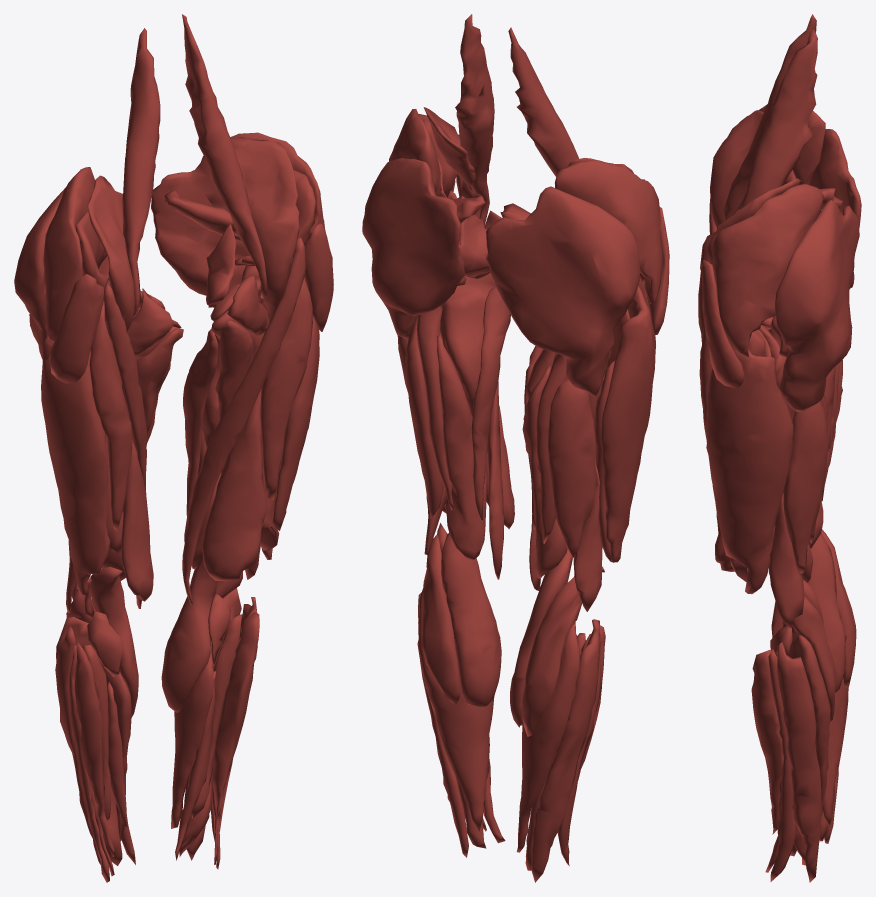
The model's file is vhf_lower_limb_adult_female.muscular.LOD4.glb.
3 views of the same model, side by side, from view 1: azimuth 30°, elevation 25°; view 2: azimuth 150°, elevation 25°; view 3: azimuth 270°, elevation 25° (orthographic).
Visible parts, largest first — view 1: VHF_LOWER_LIMB.ADULT.FEMALE.MUSCULAR.VASTUS_LATERALIS.R, VHF_LOWER_LIMB.ADULT.FEMALE.MUSCULAR.GASTROCNEMIUS_MEDIAL_HE (×2), VHF_LOWER_LIMB.ADULT.FEMALE.MUSCULAR.VASTUS_MEDIALIS.L, VHF_LOWER_LIMB.ADULT.FEMALE.MUSCULAR.SARTORIUS.L, VHF_LOWER_LIMB.ADULT.FEMALE.MUSCULAR.ILIACUS.L, VHF_LOWER_LIMB.ADULT.FEMALE.MUSCULAR.PSOAS_MAJOR.L, VHF_LOWER_LIMB.ADULT.FEMALE.MUSCULAR.PSOAS_MAJOR.R, VHF_LOWER_LIMB.ADULT.FEMALE.MUSCULAR.GLUTEUS_MAXIMUS.L, VHF_LOWER_LIMB.ADULT.FEMALE.MUSCULAR.RECTUS_FEMORIS.L, VHF_LOWER_LIMB.ADULT.FEMALE.MUSCULAR.GLUTEUS_MEDIUS.R, VHF_LOWER_LIMB.ADULT.FEMALE.MUSCULAR.RECTUS_FEMORIS.R, VHF_LOWER_LIMB.ADULT.FEMALE.MUSCULAR.TIBIALIS_ANTERIOR.L (+32 smaller); view 2: VHF_LOWER_LIMB.ADULT.FEMALE.MUSCULAR.GLUTEUS_MAXIMUS.R, VHF_LOWER_LIMB.ADULT.FEMALE.MUSCULAR.GLUTEUS_MAXIMUS.L, VHF_LOWER_LIMB.ADULT.FEMALE.MUSCULAR.BICEPS_FEMORIS_LONG_HEA (×2), VHF_LOWER_LIMB.ADULT.FEMALE.MUSCULAR.GASTROCNEMIUS_MEDIAL_HE (×2), VHF_LOWER_LIMB.ADULT.FEMALE.MUSCULAR.VASTUS_LATERALIS.R, VHF_LOWER_LIMB.ADULT.FEMALE.MUSCULAR.GASTROCNEMIUS_LATERAL_H (×2), VHF_LOWER_LIMB.ADULT.FEMALE.MUSCULAR.FIBULARIS_PERONEUS_LONG (×2), VHF_LOWER_LIMB.ADULT.FEMALE.MUSCULAR.GLUTEUS_MEDIUS.R, VHF_LOWER_LIMB.ADULT.FEMALE.MUSCULAR.SEMIMEMBRANOSUS.L, VHF_LOWER_LIMB.ADULT.FEMALE.MUSCULAR.SOLEUS.L, VHF_LOWER_LIMB.ADULT.FEMALE.MUSCULAR.SOLEUS.R, VHF_LOWER_LIMB.ADULT.FEMALE.MUSCULAR.PSOAS_MAJOR.L (+17 smaller); view 3: VHF_LOWER_LIMB.ADULT.FEMALE.MUSCULAR.VASTUS_LATERALIS.L, VHF_LOWER_LIMB.ADULT.FEMALE.MUSCULAR.GLUTEUS_MAXIMUS.L, VHF_LOWER_LIMB.ADULT.FEMALE.MUSCULAR.GLUTEUS_MEDIUS.L, VHF_LOWER_LIMB.ADULT.FEMALE.MUSCULAR.FIBULARIS_PERONEUS_LONG, VHF_LOWER_LIMB.ADULT.FEMALE.MUSCULAR.PSOAS_MAJOR.L, VHF_LOWER_LIMB.ADULT.FEMALE.MUSCULAR.BICEPS_FEMORIS_LONG_HEA, VHF_LOWER_LIMB.ADULT.FEMALE.MUSCULAR.GASTROCNEMIUS_LATERAL_H (×2), VHF_LOWER_LIMB.ADULT.FEMALE.MUSCULAR.GASTROCNEMIUS_MEDIAL_HE (×2), VHF_LOWER_LIMB.ADULT.FEMALE.MUSCULAR.TIBIALIS_ANTERIOR.L, VHF_LOWER_LIMB.ADULT.FEMALE.MUSCULAR.BICEPS_FEMORIS_SHORT_HE, VHF_LOWER_LIMB.ADULT.FEMALE.MUSCULAR.ILIACUS.R, VHF_LOWER_LIMB.ADULT.FEMALE.MUSCULAR.TENSOR_FASCIAE_LATAE.L (+13 smaller).
Boxes of the visible parts, x1,y1,x2,y2 form: VHF_LOWER_LIMB.ADULT.FEMALE.MUSCULAR.VASTUS_LATERALIS.R: [41, 338, 110, 595]; VHF_LOWER_LIMB.ADULT.FEMALE.MUSCULAR.GASTROCNEMIUS_MEDIAL_HE (×2): [89, 558, 217, 717]; VHF_LOWER_LIMB.ADULT.FEMALE.MUSCULAR.VASTUS_MEDIALIS.L: [202, 388, 266, 581]; VHF_LOWER_LIMB.ADULT.FEMALE.MUSCULAR.SARTORIUS.L: [182, 237, 305, 605]; VHF_LOWER_LIMB.ADULT.FEMALE.MUSCULAR.ILIACUS.L: [231, 137, 299, 324]; VHF_LOWER_LIMB.ADULT.FEMALE.MUSCULAR.PSOAS_MAJOR.L: [182, 14, 267, 298]; VHF_LOWER_LIMB.ADULT.FEMALE.MUSCULAR.PSOAS_MAJOR.R: [122, 28, 160, 317]; VHF_LOWER_LIMB.ADULT.FEMALE.MUSCULAR.GLUTEUS_MAXIMUS.L: [151, 155, 290, 295]; VHF_LOWER_LIMB.ADULT.FEMALE.MUSCULAR.RECTUS_FEMORIS.L: [260, 257, 312, 499]; VHF_LOWER_LIMB.ADULT.FEMALE.MUSCULAR.GLUTEUS_MEDIUS.R: [43, 167, 94, 341]; VHF_LOWER_LIMB.ADULT.FEMALE.MUSCULAR.RECTUS_FEMORIS.R: [89, 304, 132, 531]; VHF_LOWER_LIMB.ADULT.FEMALE.MUSCULAR.TIBIALIS_ANTERIOR.L: [212, 612, 259, 820]; VHF_LOWER_LIMB.ADULT.FEMALE.MUSCULAR.GLUTEUS_MAXIMUS.R: [485, 186, 640, 396]; VHF_LOWER_LIMB.ADULT.FEMALE.MUSCULAR.GLUTEUS_MAXIMUS.L: [362, 158, 465, 338]; VHF_LOWER_LIMB.ADULT.FEMALE.MUSCULAR.BICEPS_FEMORIS_LONG_HEA (×2): [405, 317, 595, 558]; VHF_LOWER_LIMB.ADULT.FEMALE.MUSCULAR.GASTROCNEMIUS_MEDIAL_HE (×2): [441, 533, 572, 727]; VHF_LOWER_LIMB.ADULT.FEMALE.MUSCULAR.VASTUS_LATERALIS.R: [601, 286, 655, 562]; VHF_LOWER_LIMB.ADULT.FEMALE.MUSCULAR.GASTROCNEMIUS_LATERAL_H (×2): [422, 534, 582, 736]; VHF_LOWER_LIMB.ADULT.FEMALE.MUSCULAR.FIBULARIS_PERONEUS_LONG (×2): [418, 592, 600, 882]; VHF_LOWER_LIMB.ADULT.FEMALE.MUSCULAR.GLUTEUS_MEDIUS.R: [555, 160, 662, 304]; VHF_LOWER_LIMB.ADULT.FEMALE.MUSCULAR.SEMIMEMBRANOSUS.L: [437, 333, 486, 560]; VHF_LOWER_LIMB.ADULT.FEMALE.MUSCULAR.SOLEUS.L: [417, 588, 494, 831]; VHF_LOWER_LIMB.ADULT.FEMALE.MUSCULAR.SOLEUS.R: [516, 622, 580, 852]; VHF_LOWER_LIMB.ADULT.FEMALE.MUSCULAR.PSOAS_MAJOR.L: [455, 14, 494, 225]; VHF_LOWER_LIMB.ADULT.FEMALE.MUSCULAR.VASTUS_LATERALIS.L: [705, 340, 793, 594]; VHF_LOWER_LIMB.ADULT.FEMALE.MUSCULAR.GLUTEUS_MAXIMUS.L: [775, 200, 859, 411]; VHF_LOWER_LIMB.ADULT.FEMALE.MUSCULAR.GLUTEUS_MEDIUS.L: [712, 183, 823, 356]; VHF_LOWER_LIMB.ADULT.FEMALE.MUSCULAR.FIBULARIS_PERONEUS_LONG: [777, 642, 821, 882]; VHF_LOWER_LIMB.ADULT.FEMALE.MUSCULAR.PSOAS_MAJOR.L: [740, 29, 817, 208]; VHF_LOWER_LIMB.ADULT.FEMALE.MUSCULAR.BICEPS_FEMORIS_LONG_HEA: [783, 401, 828, 573]; VHF_LOWER_LIMB.ADULT.FEMALE.MUSCULAR.GASTROCNEMIUS_LATERAL_H (×2): [792, 529, 856, 722]; VHF_LOWER_LIMB.ADULT.FEMALE.MUSCULAR.GASTROCNEMIUS_MEDIAL_HE (×2): [768, 533, 846, 694]; VHF_LOWER_LIMB.ADULT.FEMALE.MUSCULAR.TIBIALIS_ANTERIOR.L: [751, 650, 783, 834]; VHF_LOWER_LIMB.ADULT.FEMALE.MUSCULAR.BICEPS_FEMORIS_SHORT_HE: [769, 493, 804, 628]; VHF_LOWER_LIMB.ADULT.FEMALE.MUSCULAR.ILIACUS.R: [710, 110, 763, 227]; VHF_LOWER_LIMB.ADULT.FEMALE.MUSCULAR.TENSOR_FASCIAE_LATAE.L: [702, 261, 743, 388].
Bounding box in the file's own units: 0.343 × 1.03 × 0.1784.
